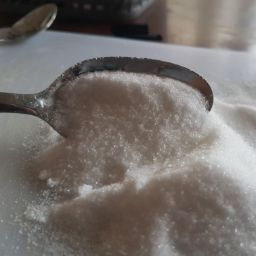Sugar: (17, 126, 256, 256), (142, 45, 255, 250), (39, 65, 216, 188)
